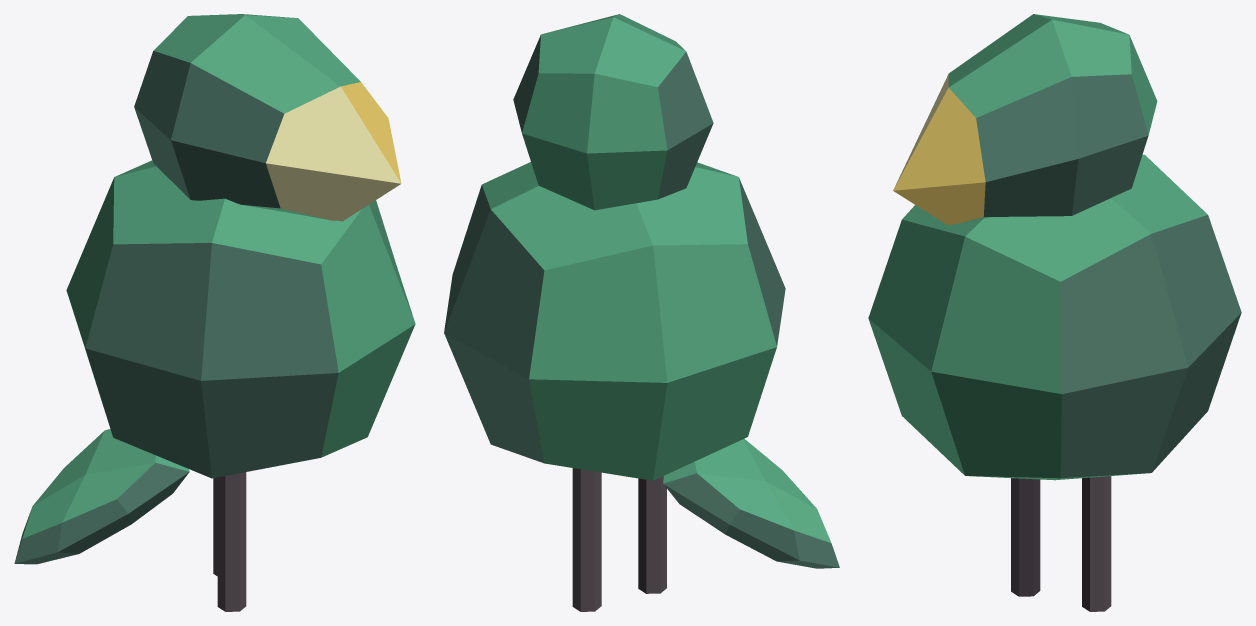
Rendered from Bird Statu.fbx.
The picture shows the model from 3 angles, left to right: view 1: azimuth 30°, elevation 25°; view 2: azimuth 150°, elevation 25°; view 3: azimuth 270°, elevation 25°; orthographic projection.
Parts seen in each view (by area): view 1: Bird Statu; view 2: Bird Statu; view 3: Bird Statu.
Boxes of the visible parts, x1,y1,x2,y2 form: Bird Statu: (14,14,415,611); Bird Statu: (444,14,839,611); Bird Statu: (868,14,1241,611).
Bounding box in the file's own units: 26.51 × 37.85 × 21.91.
